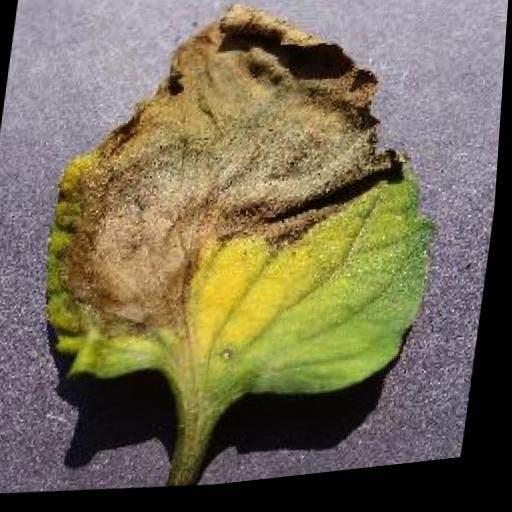Late Blight: (32, 0, 473, 436)
